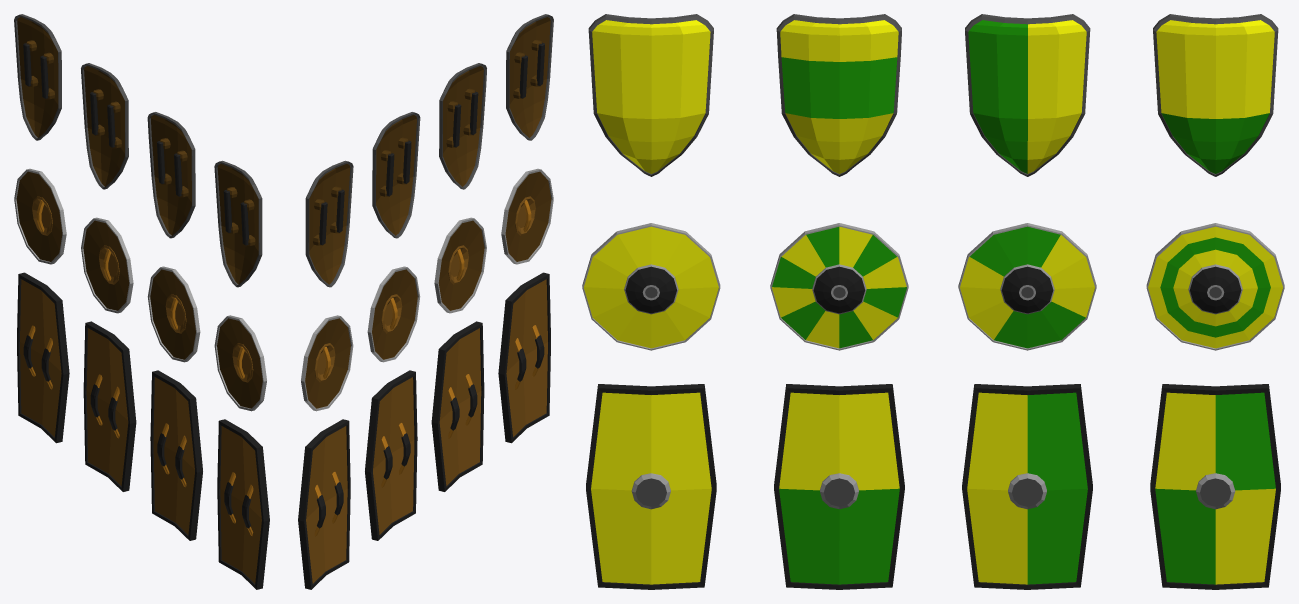
Rendered from LowPolyShieldPack.glb.
The picture shows the model from 3 angles, left to right: view 1: azimuth 30°, elevation 25°; view 2: azimuth 150°, elevation 25°; view 3: azimuth 270°, elevation 25°; orthographic projection. The views are drawn at different scales.
Visible parts, largest first — view 1: RectangularShield1, RechtangularShield2, RectangularShield3, RectangularShield4, KnightShield1, KnightShield2, KnightShield3, KnightShield4, RoundShield4, RoundShield1, RoundShield3, RoundShield2; view 2: RectangularShield4, RectangularShield3, RechtangularShield2, RectangularShield1, KnightShield4, KnightShield3, KnightShield2, KnightShield1, RoundShield4, RoundShield1, RoundShield2, RoundShield3; view 3: RechtangularShield2, RectangularShield3, RectangularShield4, RectangularShield1, KnightShield2, KnightShield3, KnightShield1, KnightShield4, RoundShield4, RoundShield1, RoundShield2, RoundShield3.
Boxes of the visible parts, x1,y1,x2,y2 form: RectangularShield1: (217, 419, 269, 589); RechtangularShield2: (150, 370, 202, 540); RectangularShield3: (83, 321, 136, 491); RectangularShield4: (17, 272, 69, 443); KnightShield1: (214, 160, 262, 287); KnightShield2: (147, 112, 195, 238); KnightShield3: (81, 63, 128, 189); KnightShield4: (14, 14, 61, 140); RoundShield4: (14, 168, 66, 264); RoundShield1: (214, 315, 266, 411); RoundShield3: (81, 217, 133, 313); RoundShield2: (147, 266, 200, 362); RectangularShield4: (298, 419, 350, 589); RectangularShield3: (365, 370, 417, 540); RechtangularShield2: (431, 321, 484, 491); RectangularShield1: (498, 272, 550, 443); KnightShield4: (305, 160, 353, 287); KnightShield3: (372, 112, 420, 238); KnightShield2: (439, 63, 486, 189); KnightShield1: (506, 14, 553, 140); RoundShield4: (301, 315, 353, 411); RoundShield1: (501, 168, 553, 264); RoundShield2: (434, 217, 486, 313); RoundShield3: (367, 266, 420, 362); RechtangularShield2: (774, 384, 904, 589); RectangularShield3: (962, 384, 1092, 589); RectangularShield4: (1150, 384, 1280, 589); RectangularShield1: (586, 384, 716, 589); KnightShield2: (776, 14, 901, 176); KnightShield3: (965, 14, 1090, 176); KnightShield1: (588, 14, 713, 176); KnightShield4: (1153, 14, 1278, 176); RoundShield4: (1146, 223, 1284, 350); RoundShield1: (582, 223, 720, 350); RoundShield2: (770, 223, 908, 350); RoundShield3: (958, 223, 1096, 350).
Size of the model in its own units: 0.463 by 9.99 by 11.21.
Materials: 3 (1 with a texture image).
